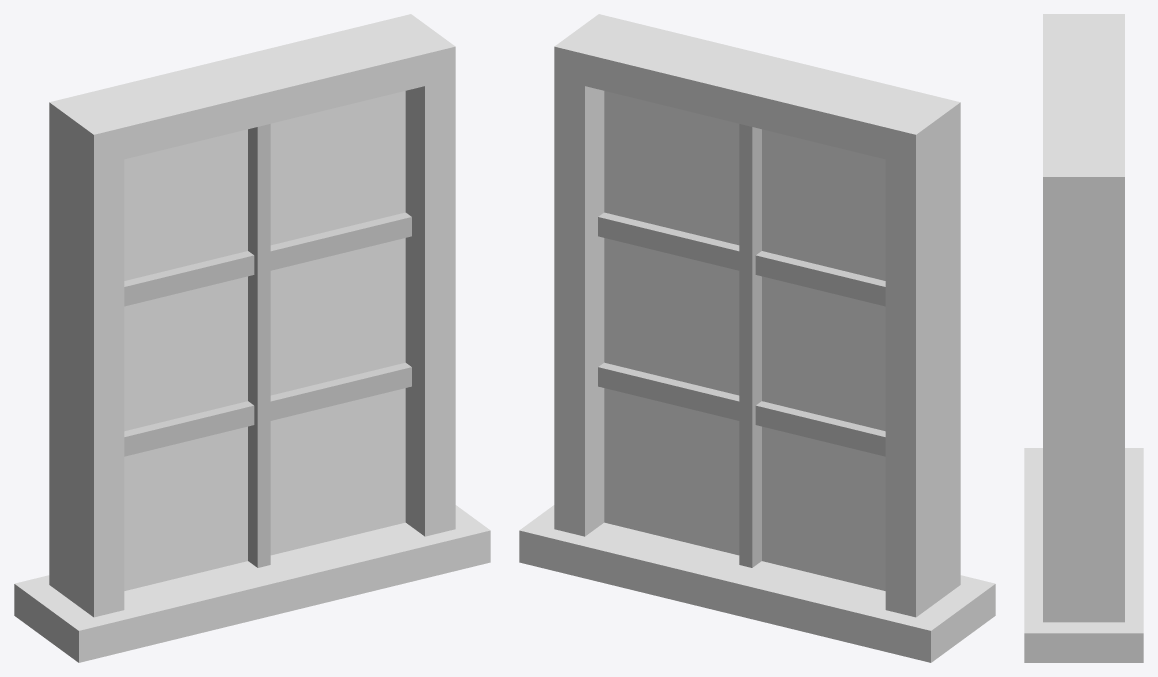
Rendered from window_002.fbx.
The picture shows the model from 3 angles, left to right: view 1: azimuth 30°, elevation 25°; view 2: azimuth 150°, elevation 25°; view 3: azimuth 270°, elevation 25°; orthographic projection. The views are drawn at different scales.
Visible parts, largest first — view 1: window_002; view 2: window_002; view 3: window_002.
Boxes of the visible parts, bbox=[...] form: window_002: bbox=[14, 14, 490, 662]; window_002: bbox=[519, 14, 995, 662]; window_002: bbox=[1024, 14, 1143, 662].
Size of the model in its own units: 157 by 42.75 by 188.
